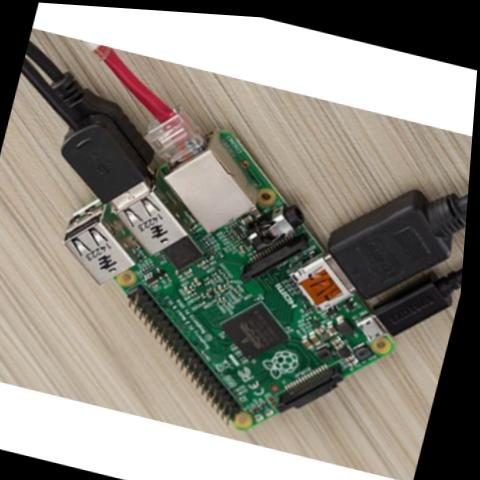Raspberry-Pi-2-Model-B: (18, 79, 456, 466)
